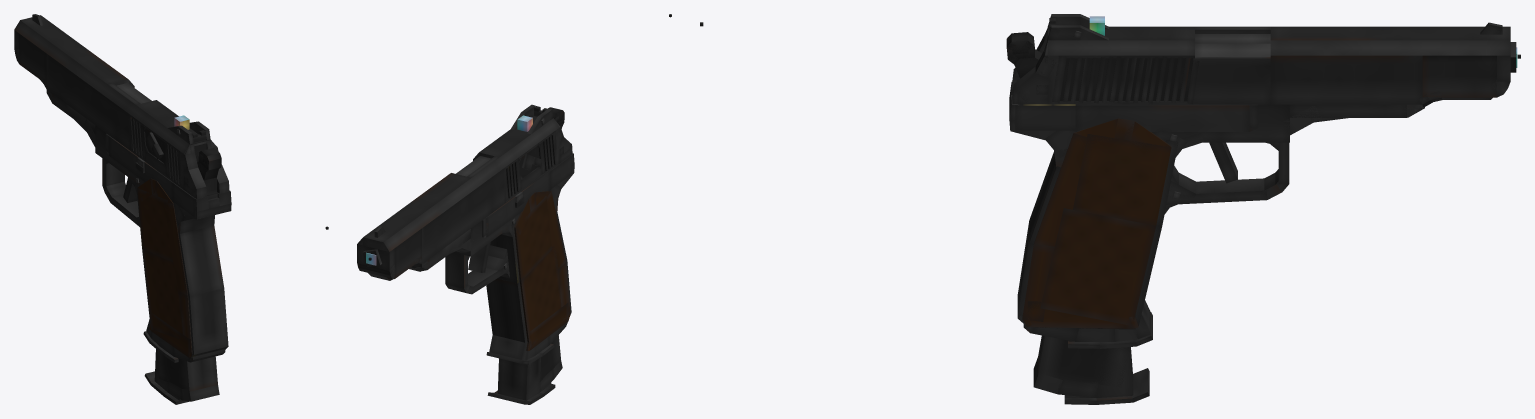
File: a1_aps.geo.fbx
3 views of the same model, side by side, from view 1: azimuth 30°, elevation 25°; view 2: azimuth 150°, elevation 25°; view 3: azimuth 270°, elevation 25° (orthographic). The views are drawn at different scales.
Parts seen in each view (by area): view 1: gun, slide, magazine4, bone20, rearsight1, bone7, bone6, thingonslide; view 2: gun, slide, magazine4, rearsight1, bone7, bone6, magazine1, thingonslide; view 3: gun, slide, magazine4, bone8, thingonslide, bone9, rearsight1, bone20.
Boxes of the visible parts, x1=… form: gun: x1=46, y1=90, x2=231, y2=362; slide: x1=14, y1=15, x2=229, y2=198; magazine4: x1=144, y1=349, x2=219, y2=404; bone20: x1=198, y1=148, x2=221, y2=180; rearsight1: x1=168, y1=121, x2=210, y2=144; bone7: x1=164, y1=142, x2=181, y2=186; bone6: x1=130, y1=118, x2=146, y2=160; thingonslide: x1=116, y1=83, x2=151, y2=103; gun: x1=362, y1=153, x2=574, y2=360; slide: x1=357, y1=116, x2=572, y2=280; magazine4: x1=487, y1=335, x2=562, y2=404; rearsight1: x1=511, y1=104, x2=553, y2=133; bone7: x1=539, y1=131, x2=556, y2=173; bone6: x1=506, y1=158, x2=521, y2=200; magazine1: x1=486, y1=343, x2=554, y2=364; thingonslide: x1=456, y1=156, x2=491, y2=176; gun: x1=1009, y1=42, x2=1516, y2=341; slide: x1=1012, y1=26, x2=1510, y2=107; magazine4: x1=1033, y1=335, x2=1149, y2=404; bone8: x1=1052, y1=56, x2=1159, y2=103; thingonslide: x1=1195, y1=34, x2=1270, y2=56; bone9: x1=1155, y1=56, x2=1199, y2=103; rearsight1: x1=1047, y1=14, x2=1108, y2=40; bone20: x1=1006, y1=32, x2=1035, y2=77.
Bounding box in the file's own units: 24.17 × 166 × 331.
1 material, 1 textured.
